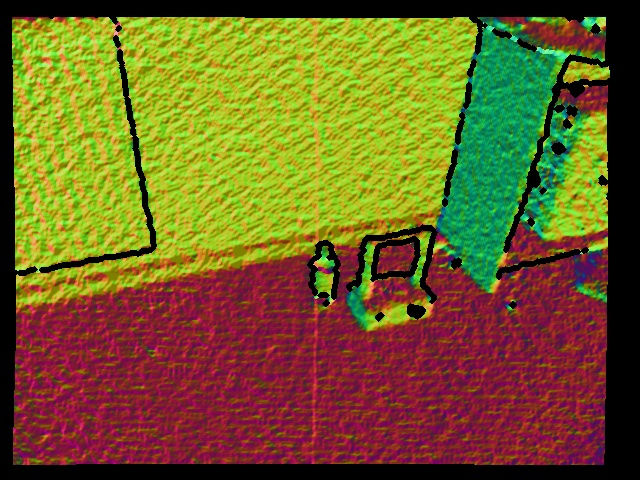station: (346, 226, 439, 334)
